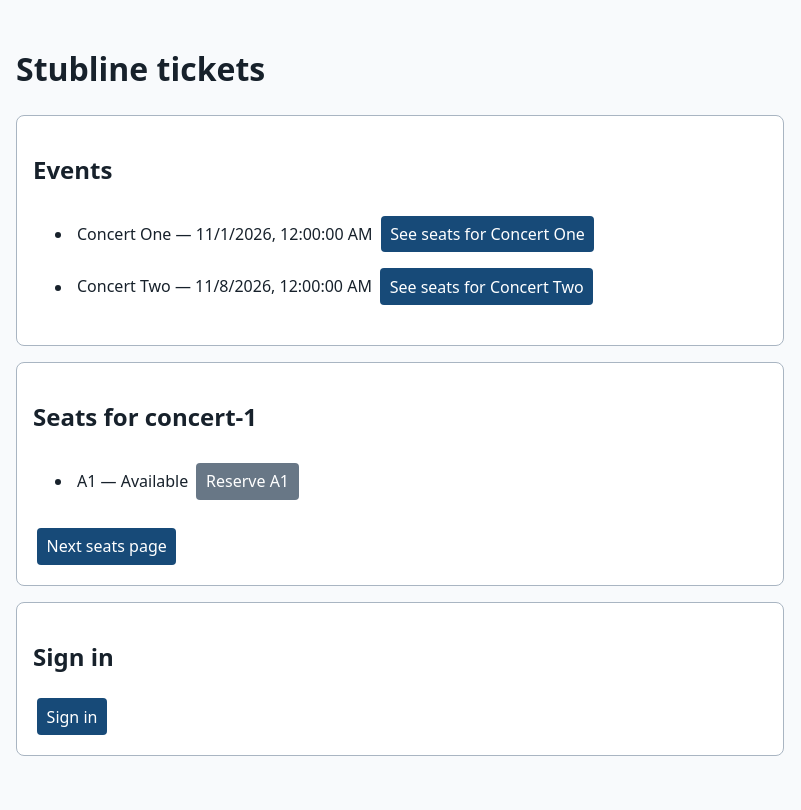
buyer flow › shows events and a useful payment error
Expected: the button "See seats for Concert One" is shown, [381,216,594,252]
Expected: the list item "A1 — Available Reserve A1" is shown, [77,463,299,500]
Click the button "Sign in" at (72, 717), box [37,698,107,735]
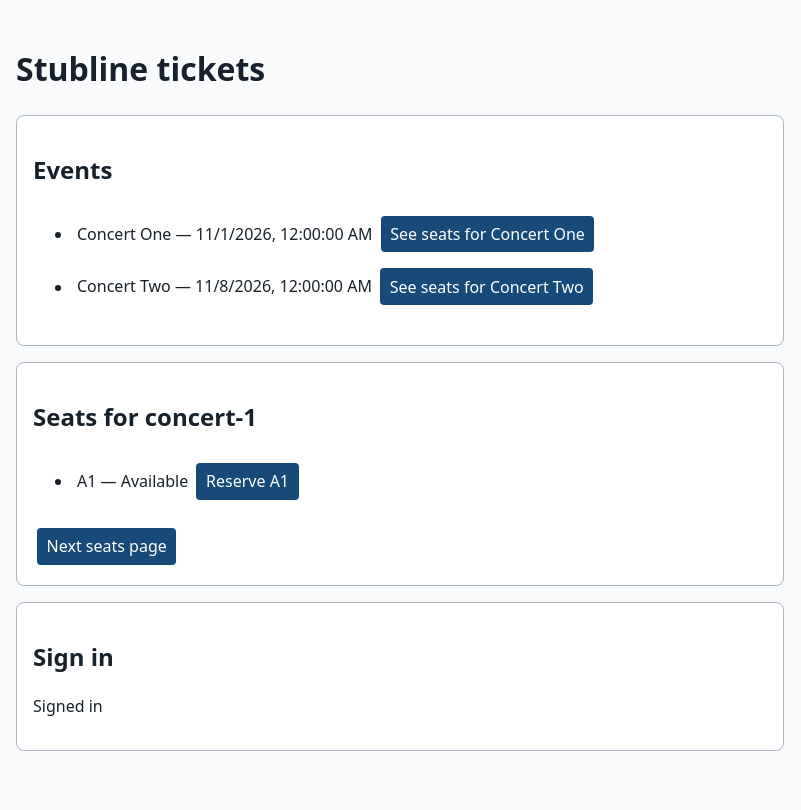
Result: the text "Signed in" is shown at [33,695,103,717]
Click the button "Reserve A1" at (248, 482), box [196,463,299,500]
(page scrolled)
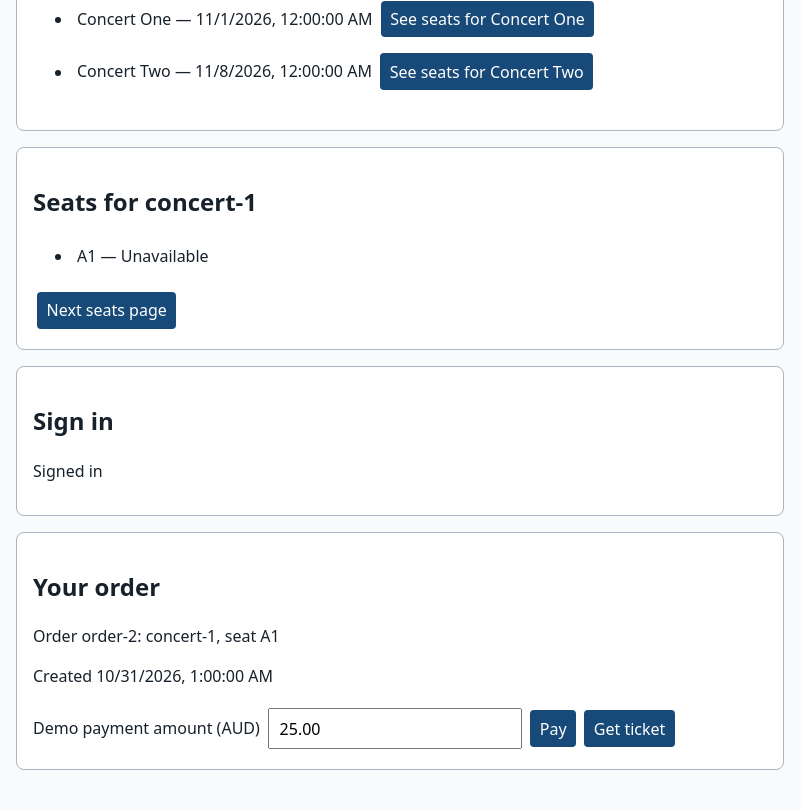
Result: the text "Order order-2: concert-1, seat A1" is shown at [33,626,280,648]
Result: the list item "A1 — Unavailable" is shown at [77,245,209,267]
Result: the button "Reserve A1" is gone
Click the button "Pay" at (553, 729), box [530,710,576,747]
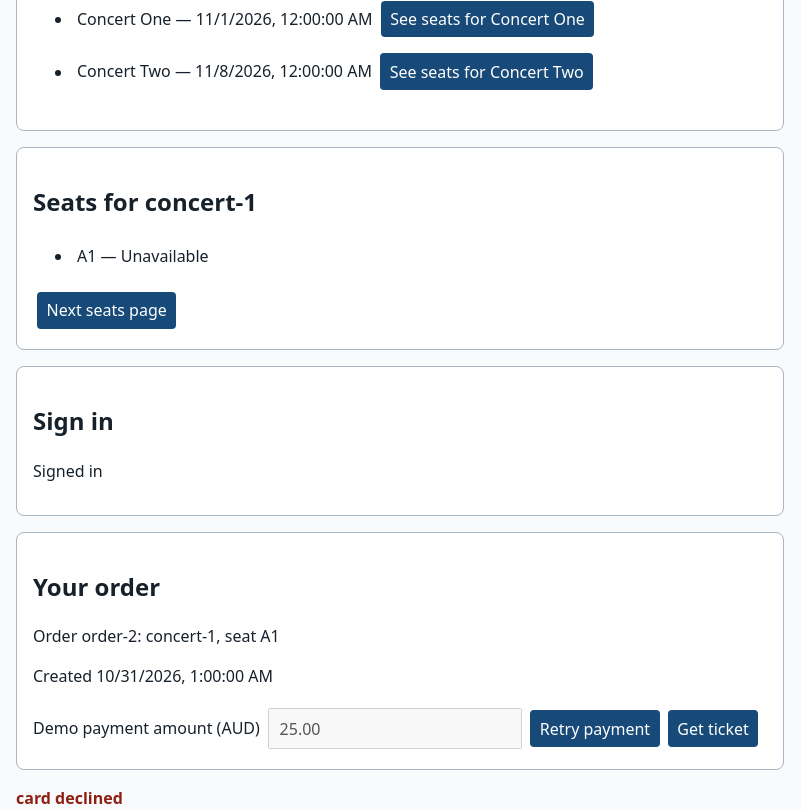
Result: the button "Retry payment" is enabled at [530,710,660,747]
Result: the message reads "card declined" at [16,787,123,809]
